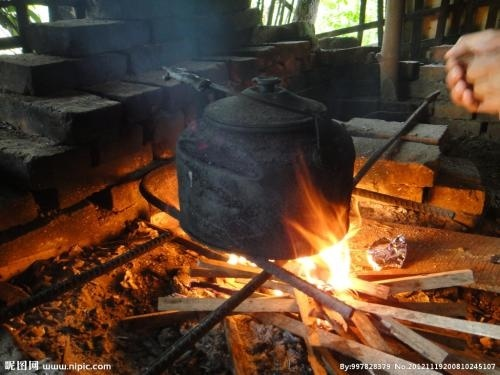fire: (286, 174, 381, 297)
